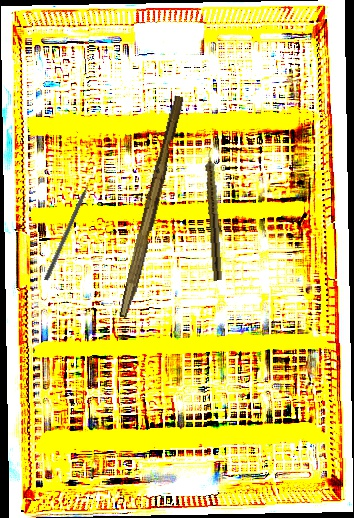Handpiece: (203, 147, 226, 281)
Pusher: (43, 170, 98, 282)
Scalpel Handle: (118, 94, 186, 320)
